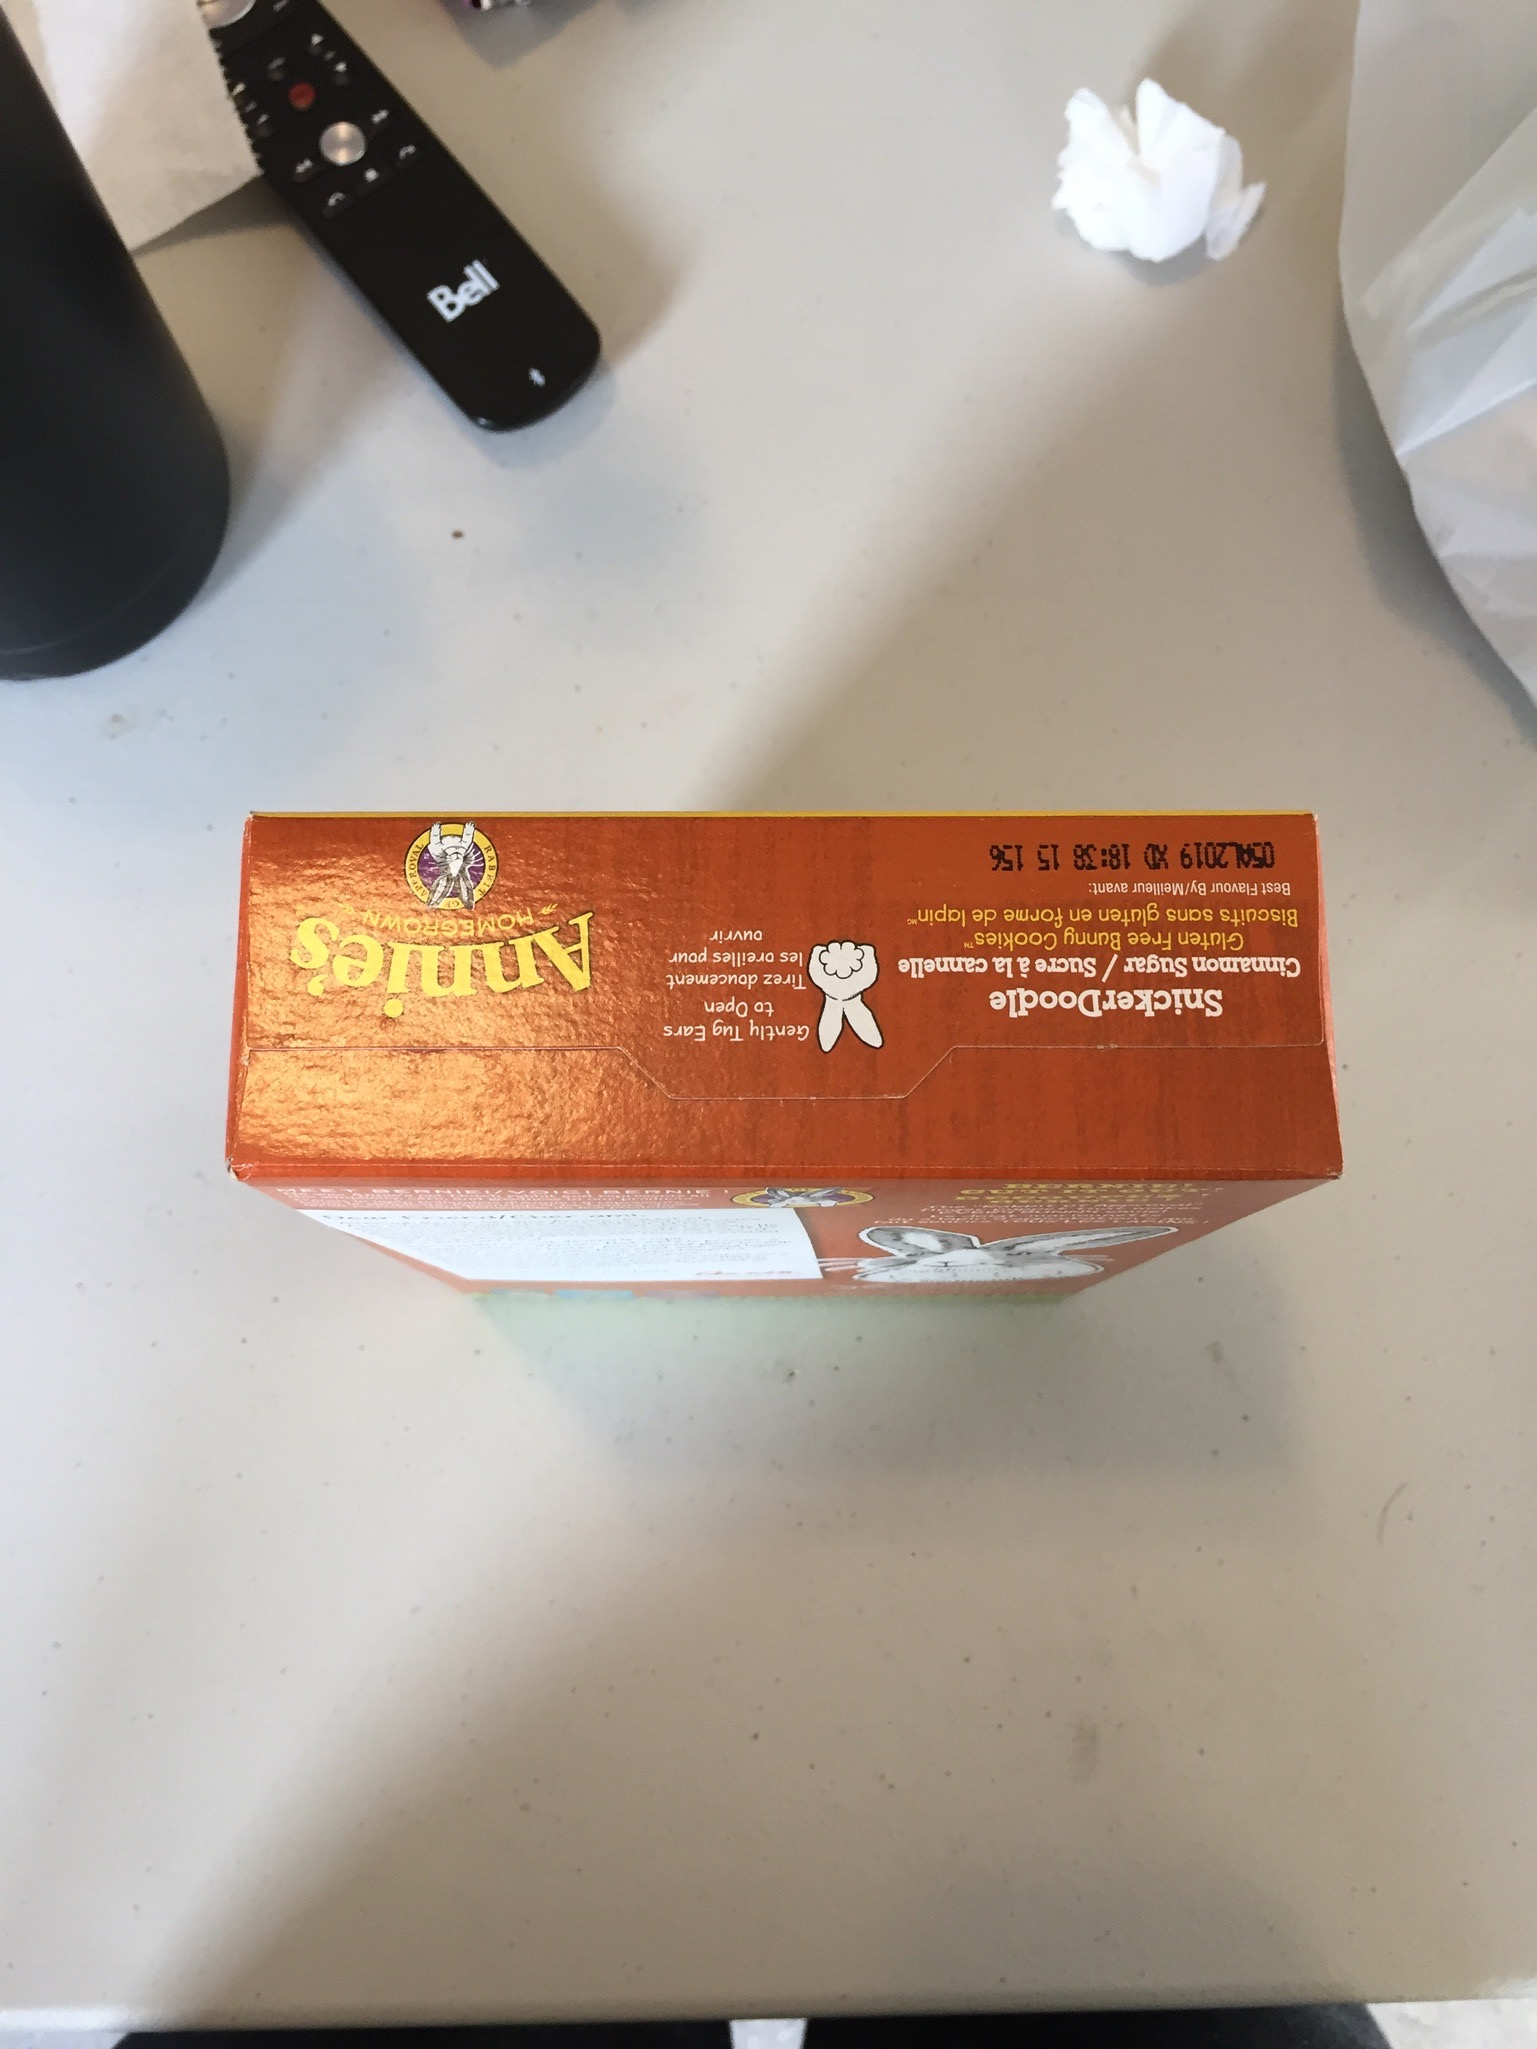annies_snickerdoodle_cinnamon_sugar: (257, 819, 1317, 1166)
